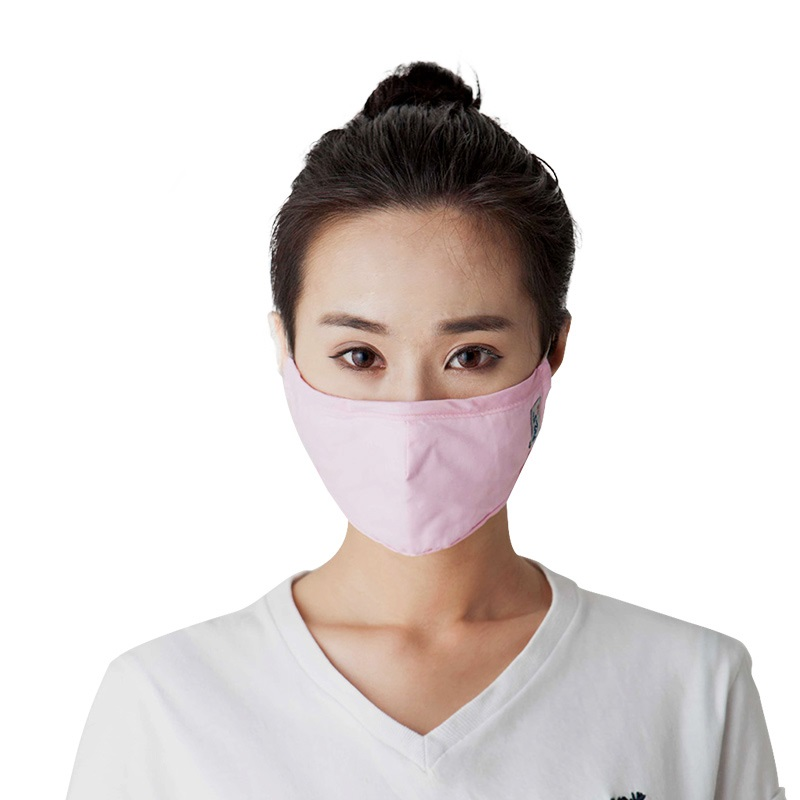face_mask: (285, 196, 541, 556)
